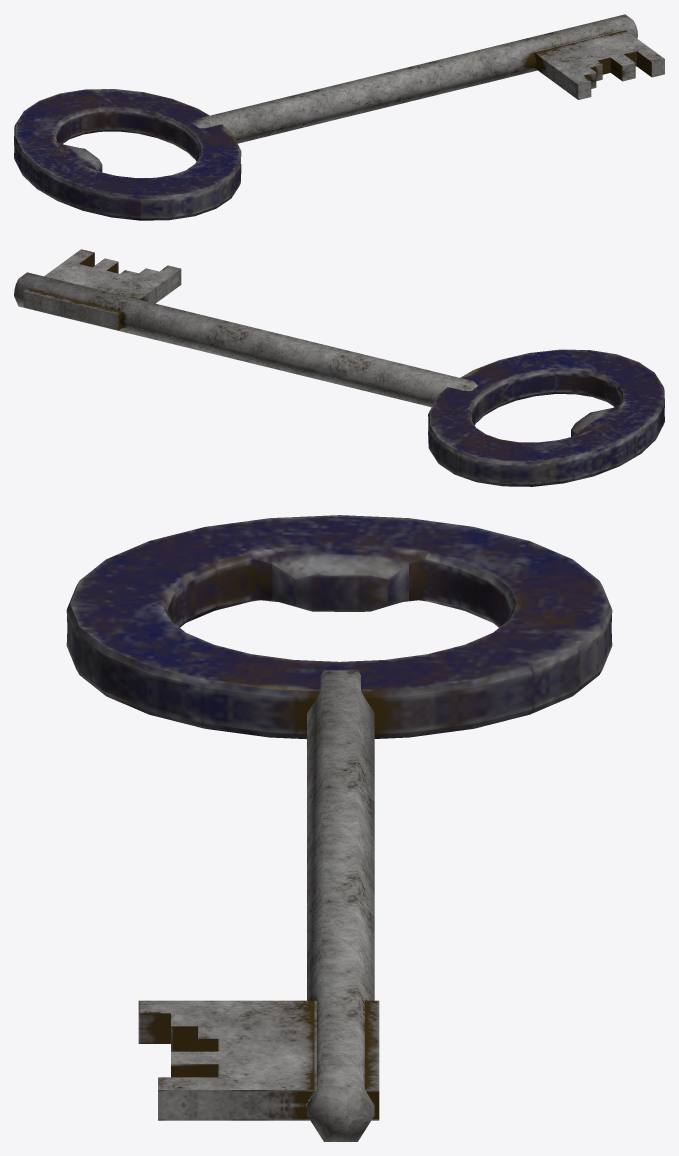
File: Kunci-4.fbx
3 views of the same model, one above another, from view 1: azimuth 30°, elevation 25°; view 2: azimuth 150°, elevation 25°; view 3: azimuth 270°, elevation 25° (orthographic). The views are drawn at different scales.
Parts seen in each view (by area): view 1: Key_01, Cylinder.002, Plane.004; view 2: Key_01, Cylinder.002, Plane.004; view 3: Key_01, Cylinder.002, Plane.004.
Boxes of the visible parts, left/top/right/bottom form: Key_01: left=14, top=89, right=241, bottom=220; Cylinder.002: left=192, top=14, right=637, bottom=143; Plane.004: left=534, top=30, right=664, bottom=99; Key_01: left=428, top=349, right=664, bottom=486; Cylinder.002: left=14, top=272, right=477, bottom=407; Plane.004: left=23, top=249, right=181, bottom=330; Key_01: left=66, top=515, right=612, bottom=739; Cylinder.002: left=307, top=670, right=374, bottom=1141; Plane.004: left=138, top=1000, right=379, bottom=1120.
Bounding box in the file's own units: 12.26 × 0.5229 × 4.83.
Materials: 1 (1 with a texture image).
